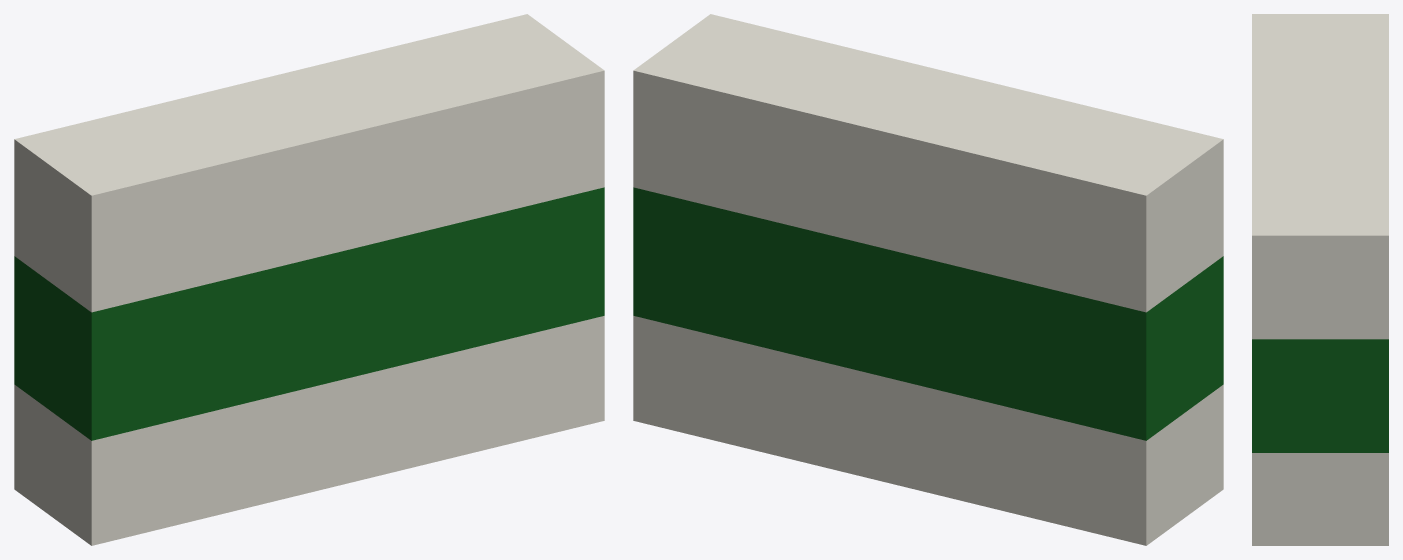
File: antifungal.glb
3 views of the same model, side by side, from view 1: azimuth 30°, elevation 25°; view 2: azimuth 150°, elevation 25°; view 3: azimuth 270°, elevation 25° (orthographic). The views are drawn at different scales.
Parts seen in each view (by area): view 1: antifungal:carton; view 2: antifungal:carton; view 3: antifungal:carton.
Part boxes in pixels (x1,y1,x2,y2): antifungal:carton: (14,14,604,545); antifungal:carton: (633,14,1223,545); antifungal:carton: (1252,14,1388,545).
Size of the model in its own units: 0.092 by 0.06 by 0.024.
